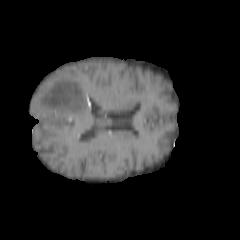glioma: (36, 79, 95, 118)
